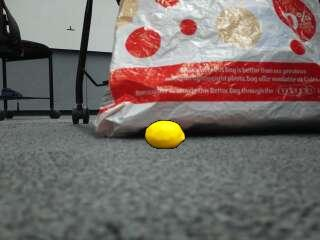lemon: (145, 121, 184, 148)
